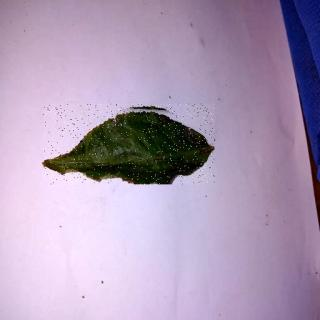Bird Eye Spot: (45, 105, 216, 185)
